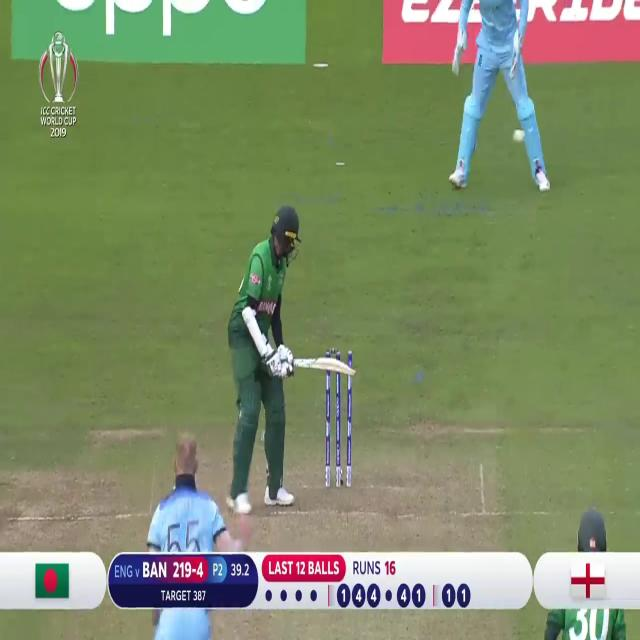ball: (512, 127, 526, 149)
